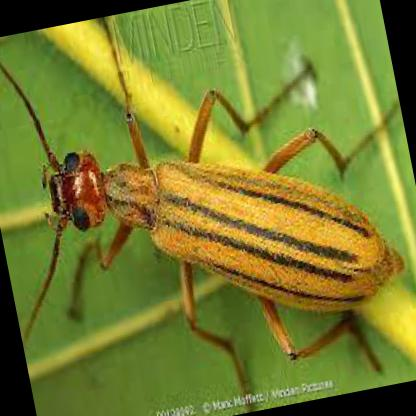blister beetle: (0, 59, 406, 356)
